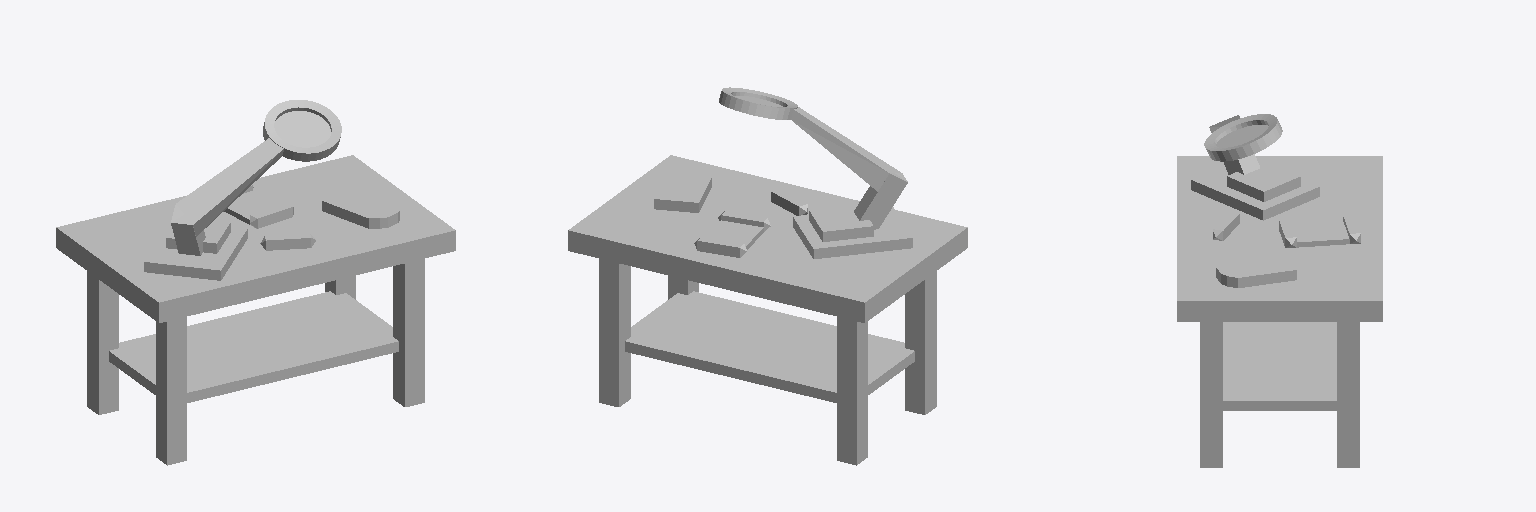
The model's file is translation_table_full.obj.
3 renders of one model, left to right at view 1: azimuth 30°, elevation 25°; view 2: azimuth 150°, elevation 25°; view 3: azimuth 270°, elevation 25°, orthographic.
Visible parts, largest first — view 1: Circle_Circle.000; view 2: Circle_Circle.000; view 3: Circle_Circle.000.
Boxes of the visible parts, <box> form: Circle_Circle.000: <box>56,100,455,465</box>; Circle_Circle.000: <box>568,87,967,465</box>; Circle_Circle.000: <box>1177,114,1382,467</box>.
Bounding box in the file's own units: 1 × 0.9634 × 0.603.